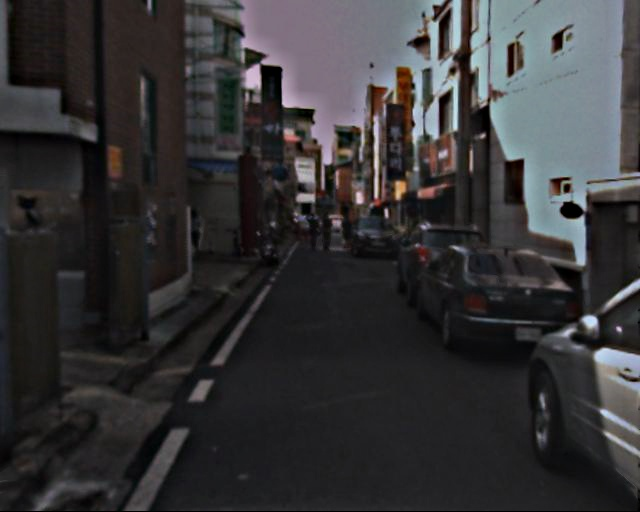person: (183, 207, 204, 259), (318, 211, 336, 254), (337, 213, 354, 255), (306, 214, 322, 253)
